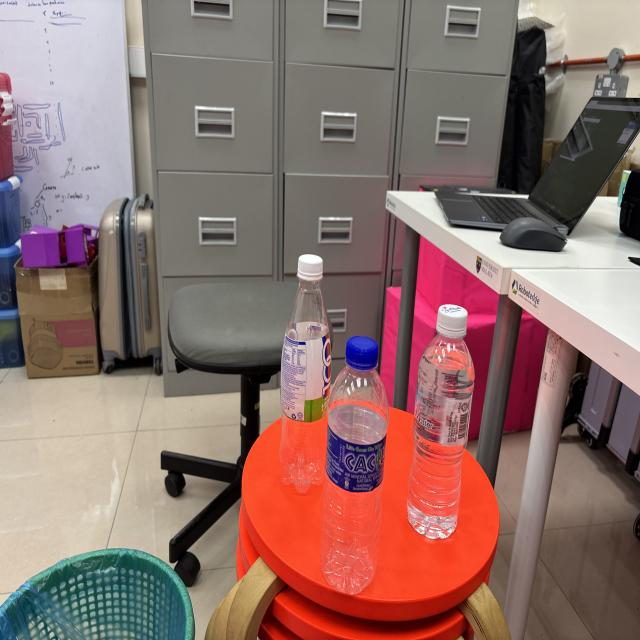plastic_bottle: (319, 332, 393, 606), (403, 298, 478, 553), (274, 246, 341, 499)
